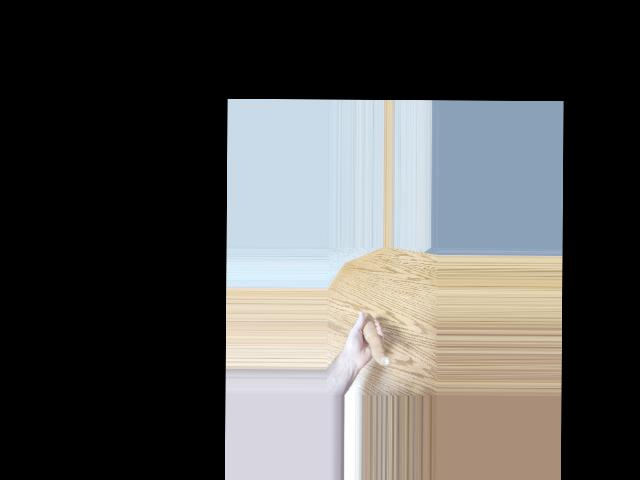sweet_potato: (359, 313, 388, 368)
